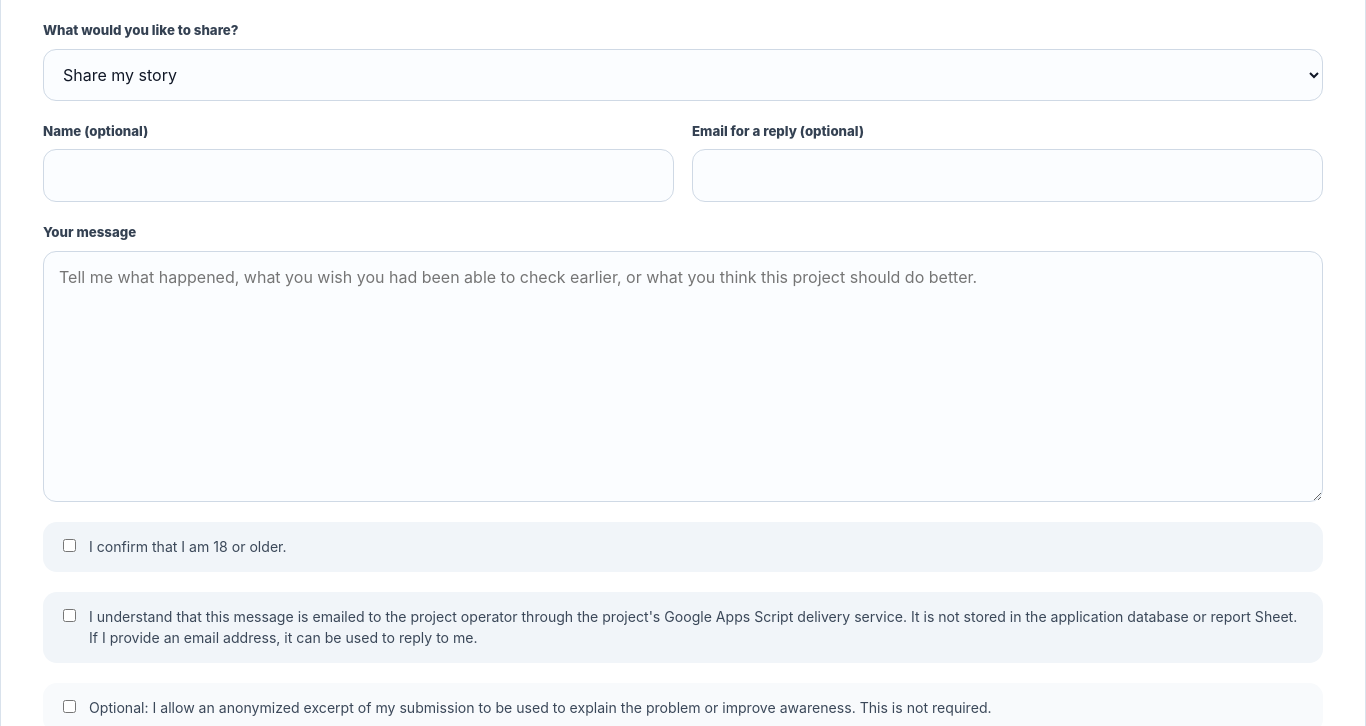
Test: StoryForm › submits privately and clears the form
Type "This is a sufficiently detailed story about something I wish I had checked earlier." into the text box labelled "Your message".
click(683, 376); type("This is a sufficiently detailed story about something I wish I had checked earlier.")  # box x1=43 y1=250 x2=1323 y2=502
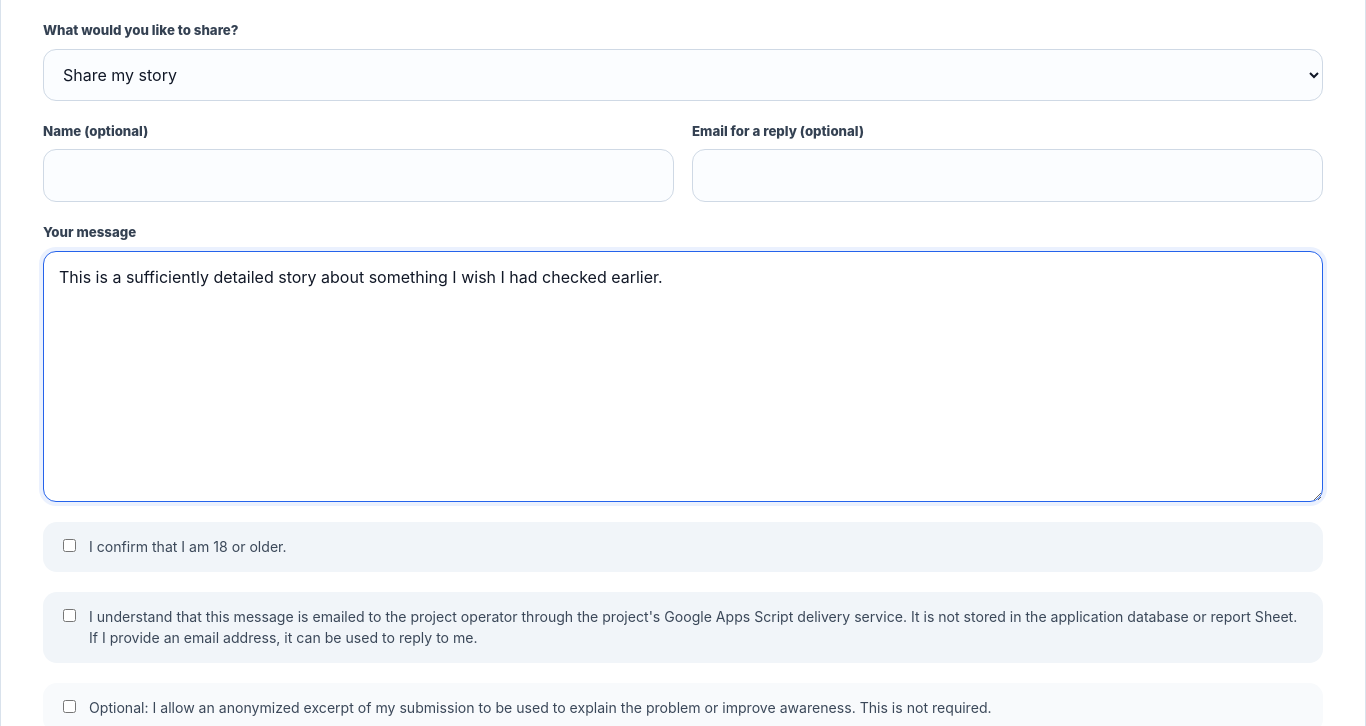
Click the checkbox labelled "I confirm that I am 18 or older.".
click(70, 545)  # box x1=63 y1=539 x2=76 y2=552
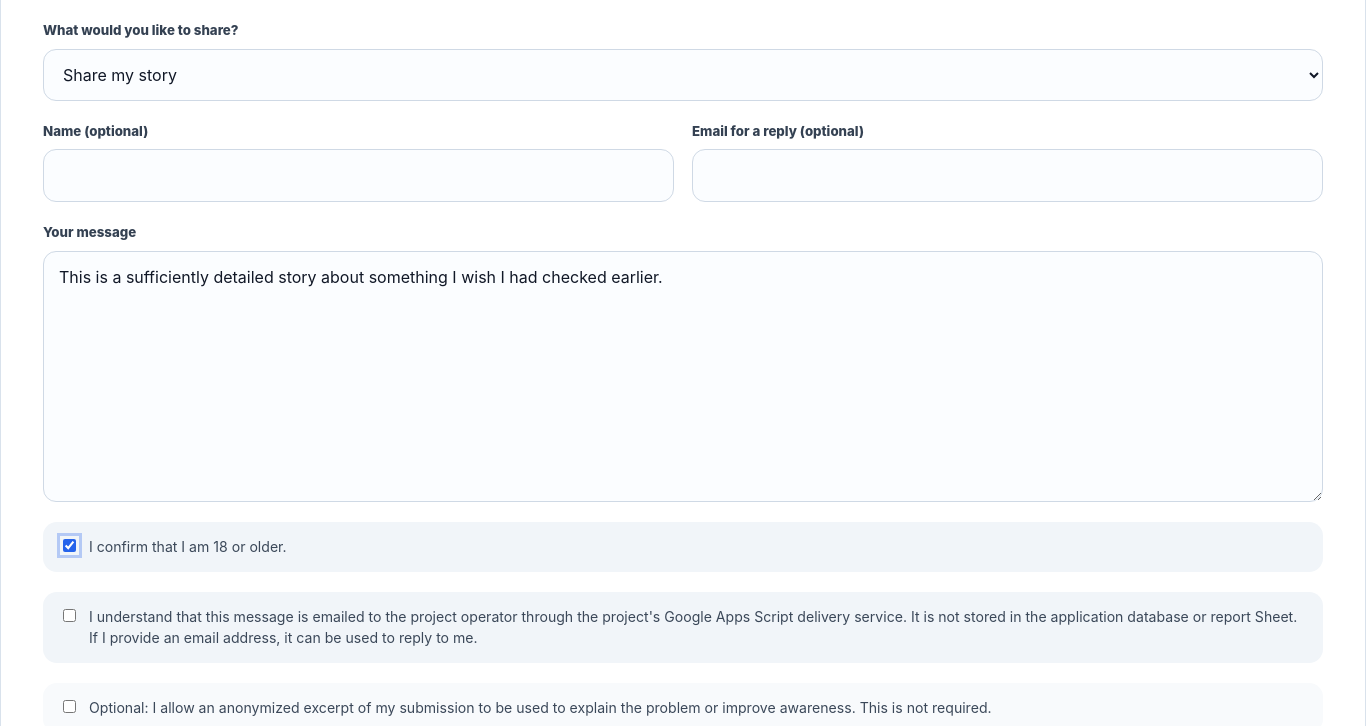
Click the checkbox labelled "I understand that this message is emailed".
click(70, 615)  # box x1=63 y1=608 x2=76 y2=622
(page scrolled)
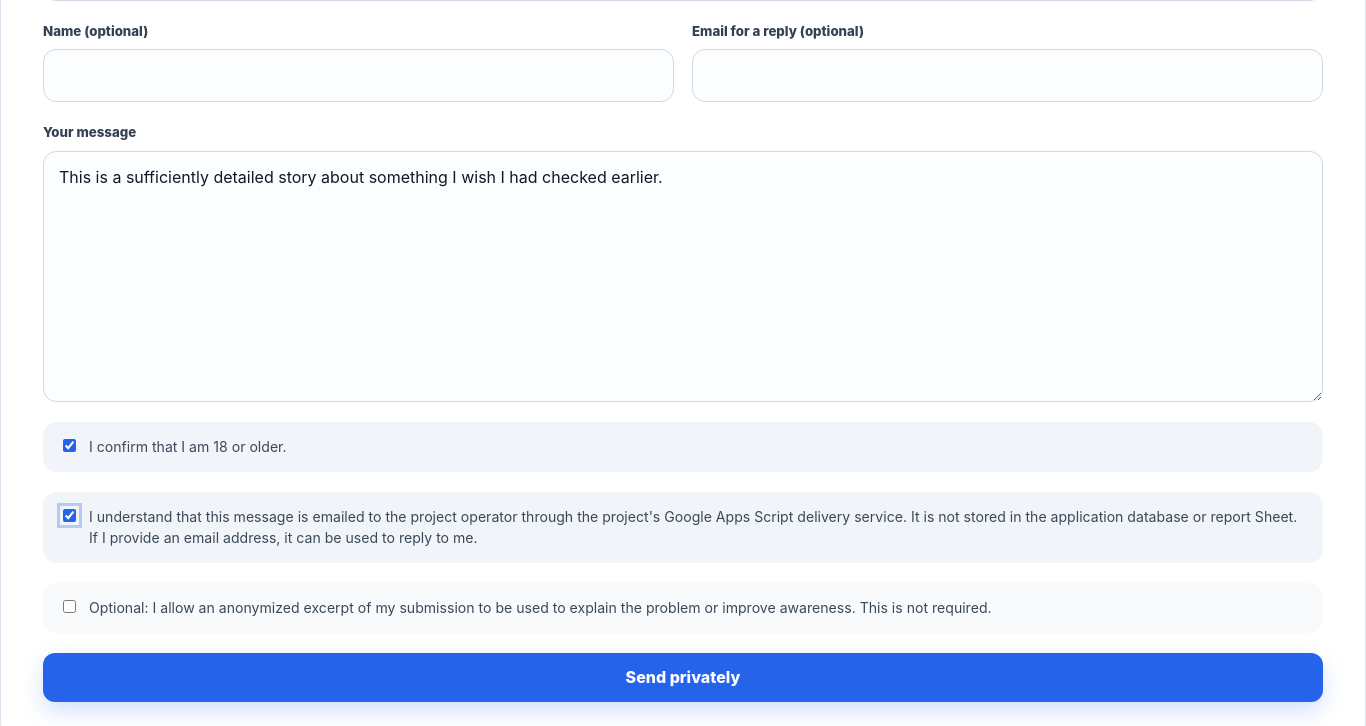
Click the button "Send privately".
click(683, 677)  # box x1=43 y1=653 x2=1323 y2=702
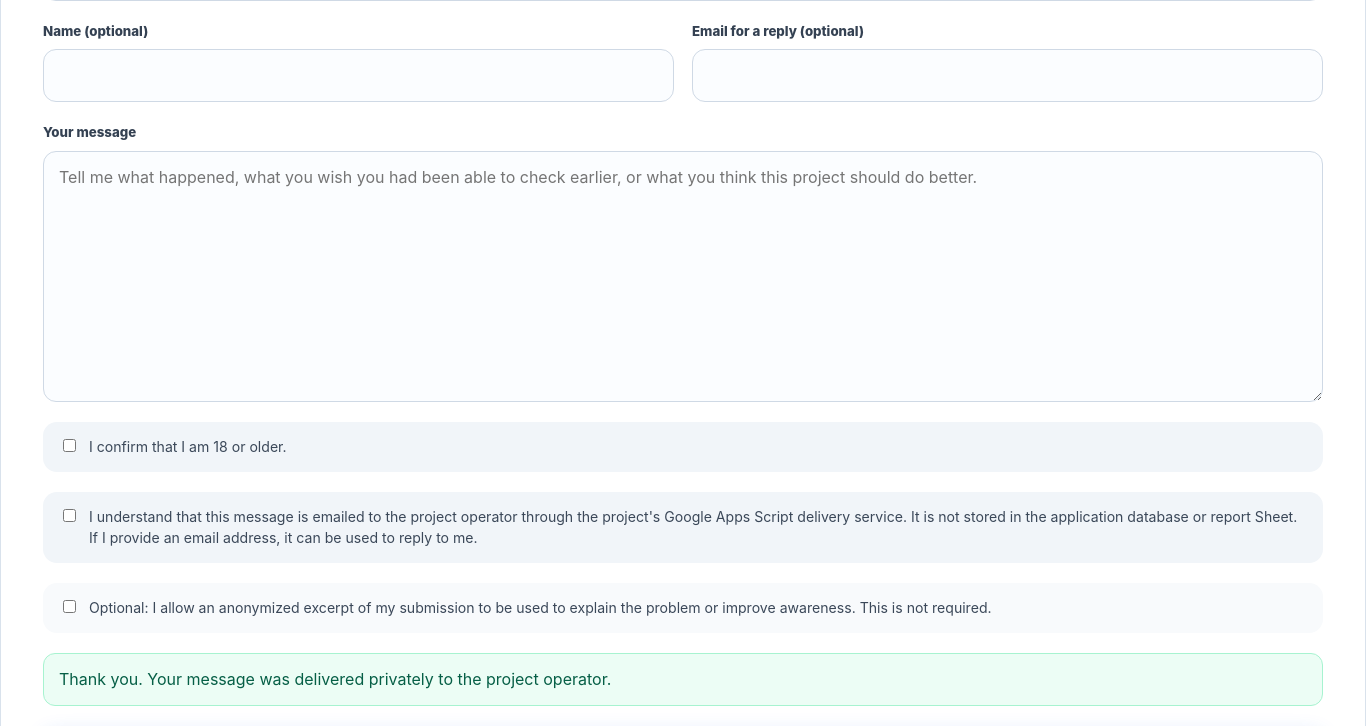
expect the text "Thank you. Your message was delivered privately to the project operator." is shown: met, box x1=43 y1=653 x2=1323 y2=706
